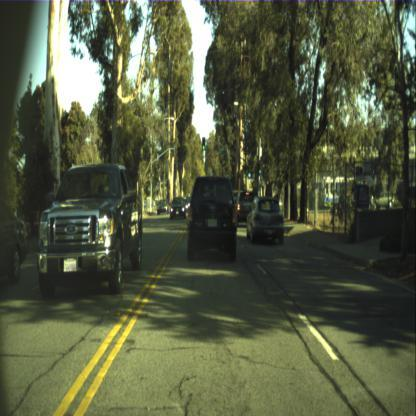Green: (257, 162, 261, 174), (247, 164, 250, 178), (202, 137, 205, 150)
